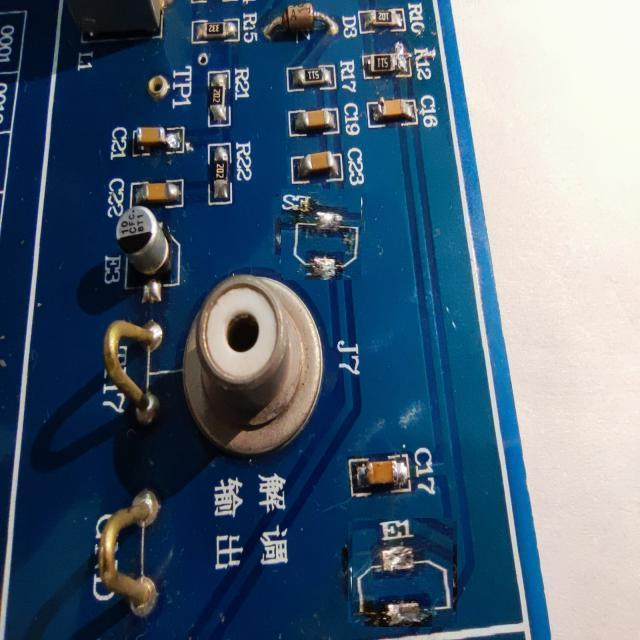miss_welding: (350, 520, 455, 625), (278, 191, 364, 277)
